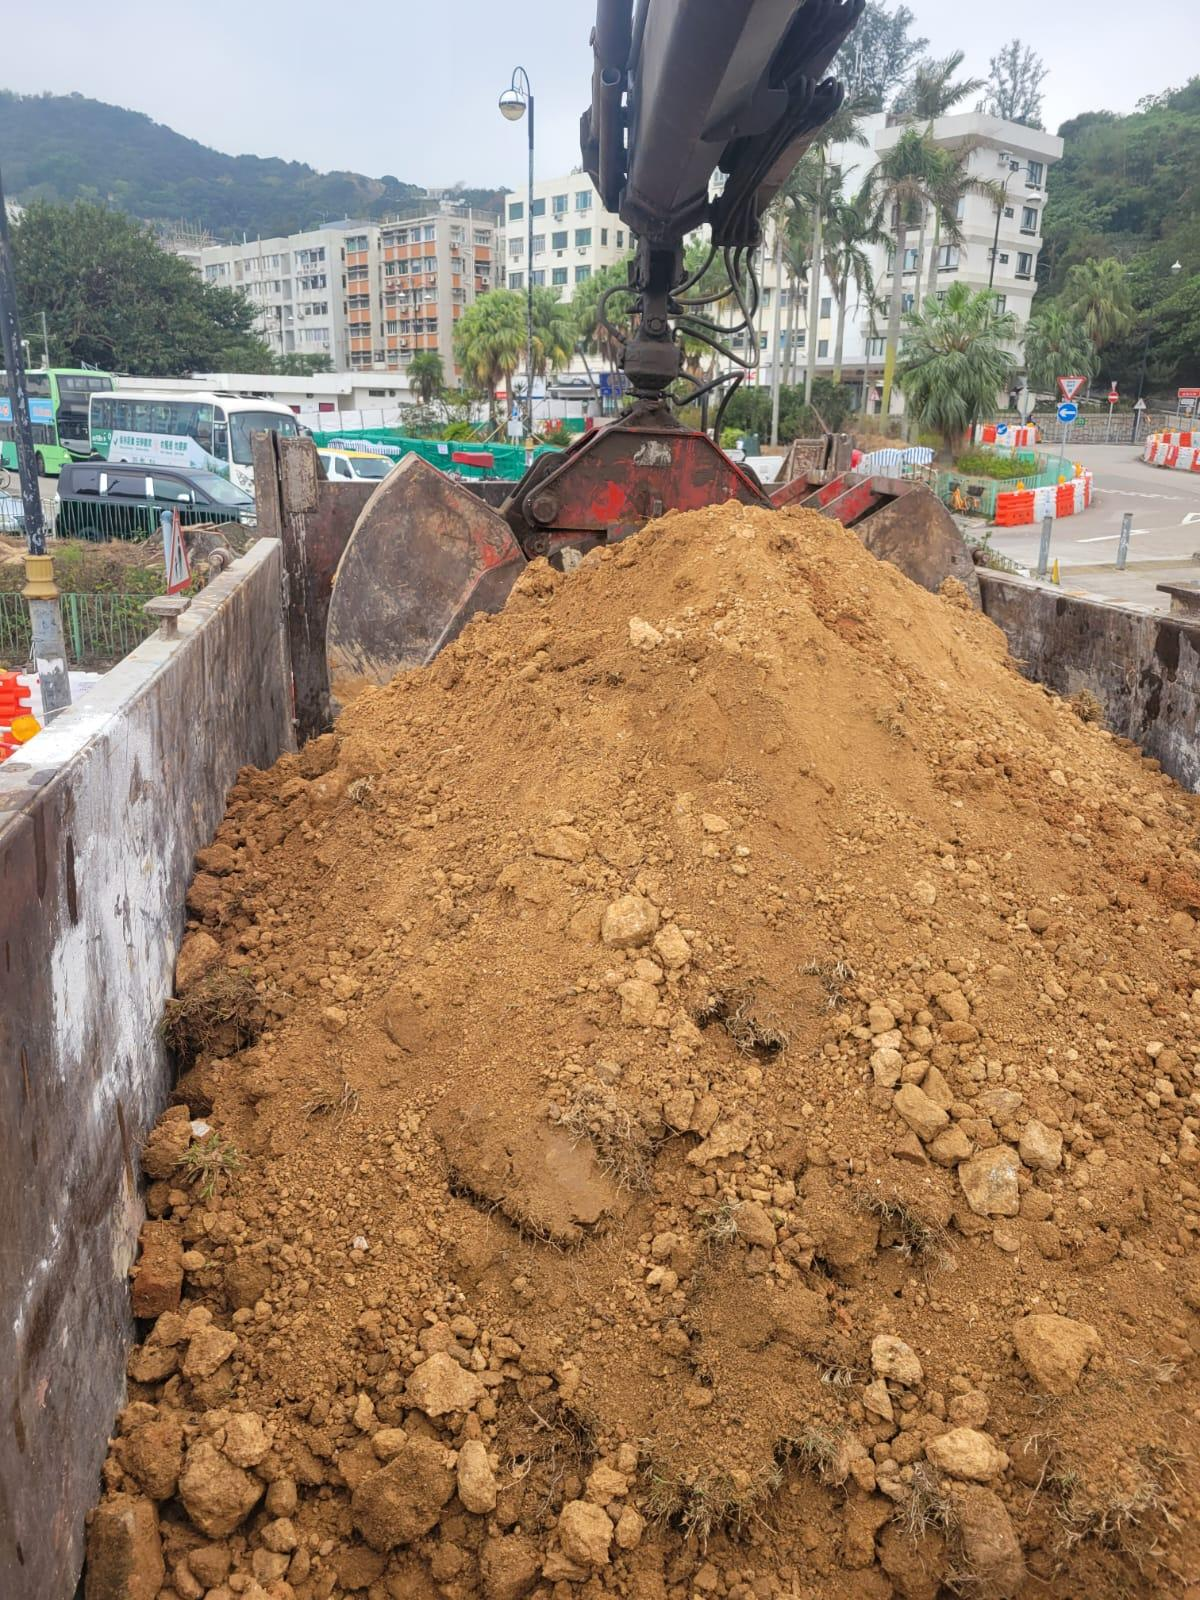dry: (105, 513, 1200, 1600)
